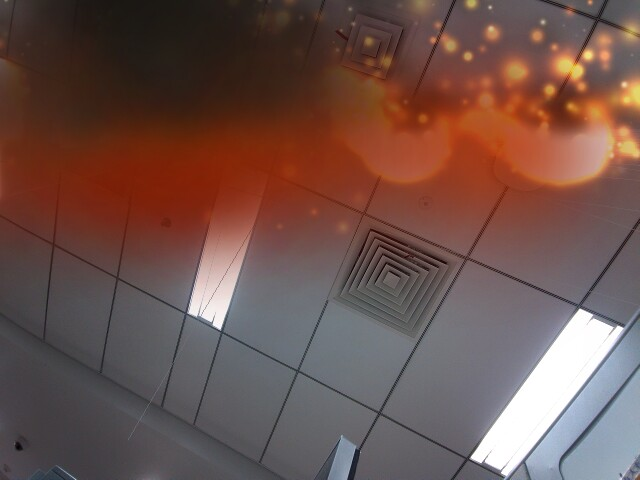fire: (508, 101, 614, 187), (361, 100, 452, 186)
